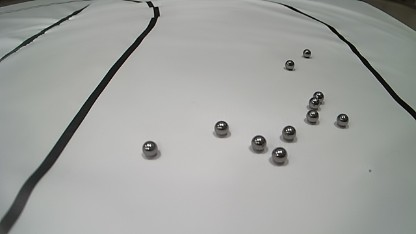ironball: (142, 140, 158, 157), (272, 147, 287, 164), (251, 135, 266, 152), (214, 120, 229, 136), (282, 125, 296, 141), (336, 113, 349, 127), (306, 110, 318, 123), (308, 97, 320, 109), (313, 91, 324, 104), (285, 60, 294, 70), (303, 49, 311, 58)
